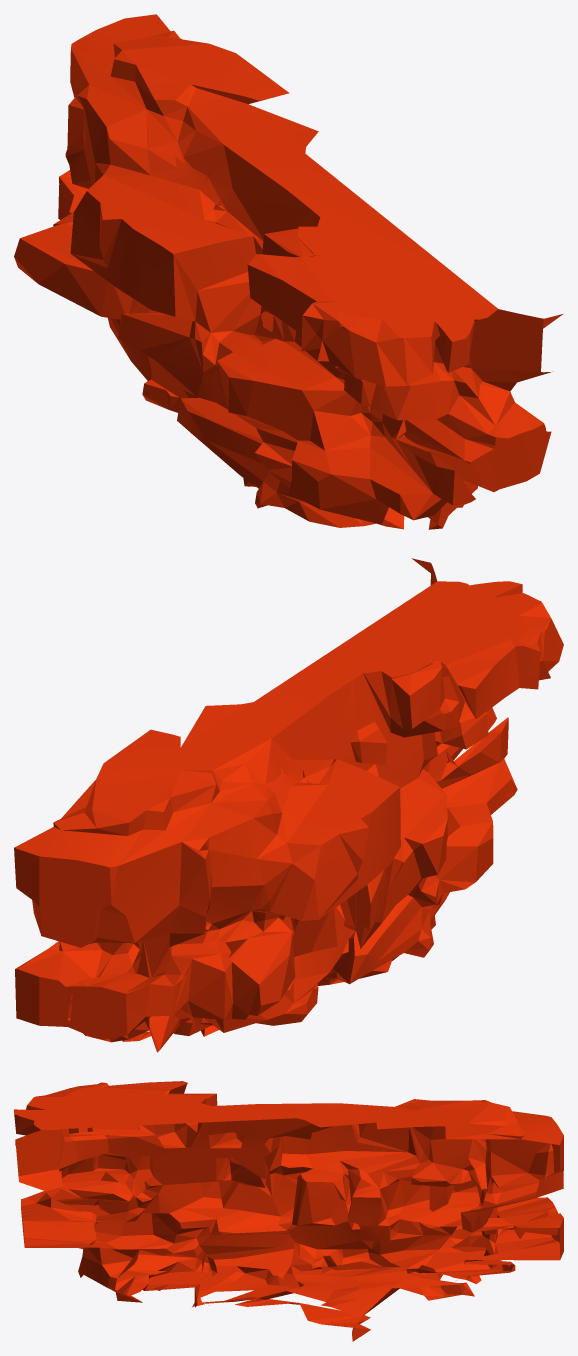
Rendered from canyon_rock_wall_03.fbx.
The picture shows the model from 3 angles, top to bottom: view 1: azimuth 30°, elevation 25°; view 2: azimuth 150°, elevation 25°; view 3: azimuth 270°, elevation 25°; orthographic projection. The views are drawn at different scales.
Visible parts, largest first — view 1: Circle.496_cell.005; view 2: Circle.496_cell.005; view 3: Circle.496_cell.005.
Boxes of the visible parts, x1,y1,x2,y2 form: Circle.496_cell.005: [14, 14, 562, 529]; Circle.496_cell.005: [14, 558, 563, 1052]; Circle.496_cell.005: [14, 1081, 563, 1341].
Size of the model in its own units: 998 by 1487 by 3401.
